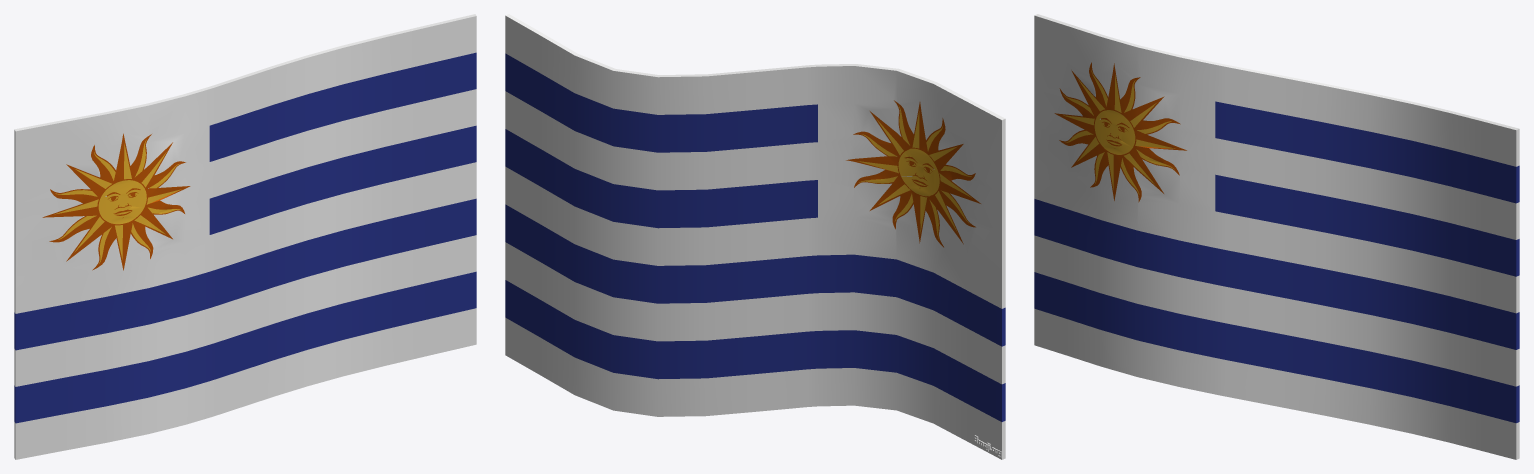
Rendered from flag_uruguay.glb.
3 views of the same model, side by side, from view 1: azimuth 30°, elevation 25°; view 2: azimuth 150°, elevation 25°; view 3: azimuth 330°, elevation 25° (orthographic). The views are drawn at different scales.
Parts seen in each view (by area): view 1: flag_uruguay; view 2: flag_uruguay; view 3: flag_uruguay.
Boxes of the visible parts, x1,y1,x2,y2 form: flag_uruguay: (14,14,476,459); flag_uruguay: (505,14,1005,459); flag_uruguay: (1034,14,1519,459).
Bounding box in the file's own units: 2.18 × 1.58 × 0.3373.
2 materials, 2 textured.
